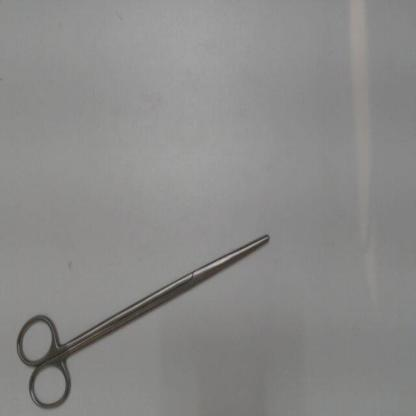9 Metzenbaum Scissors: (11, 230, 275, 415)
